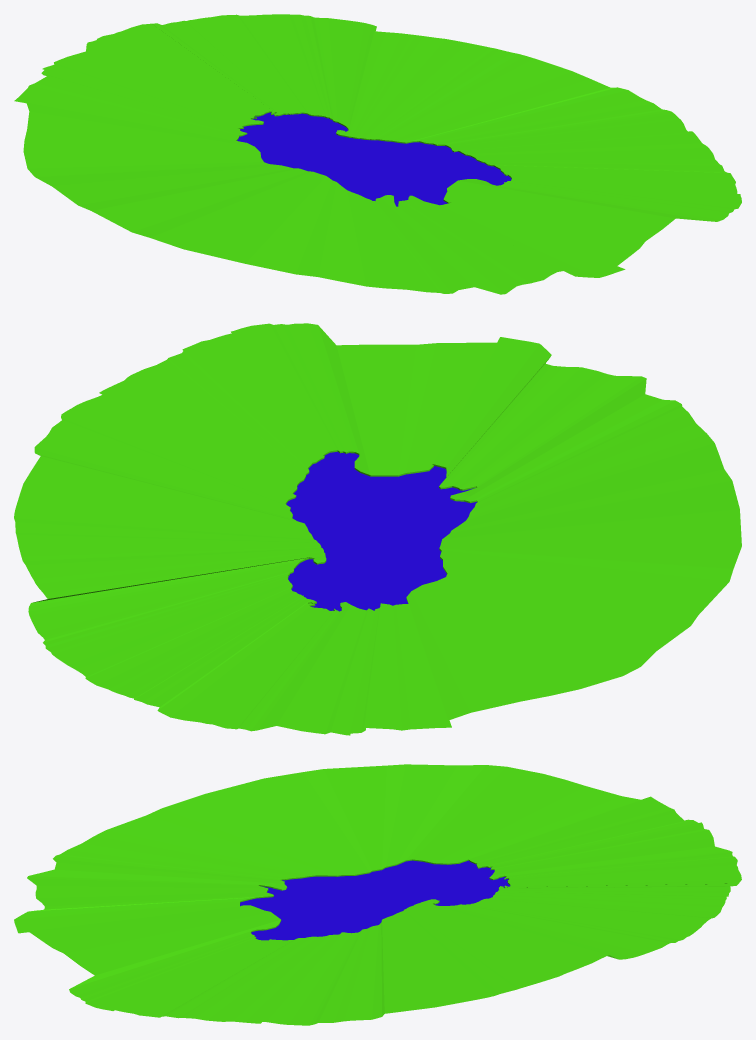
File: Terreno.glb
3 renders of one model, top to bottom at view 1: azimuth 30°, elevation 25°; view 2: azimuth 150°, elevation 25°; view 3: azimuth 270°, elevation 25°, orthographic. The views are drawn at different scales.
Visible parts, largest first — view 1: Terreno, Agua; view 2: Terreno, Agua; view 3: Terreno, Agua.
Boxes of the visible parts, <box> form: Terreno: <box>14,14,741,294</box>; Agua: <box>237,112,511,206</box>; Terreno: <box>14,323,741,735</box>; Agua: <box>286,451,476,611</box>; Terreno: <box>14,764,741,1025</box>; Agua: <box>240,860,510,940</box>.
Size of the model in its own units: 59.15 by 1.63 by 70.14.
